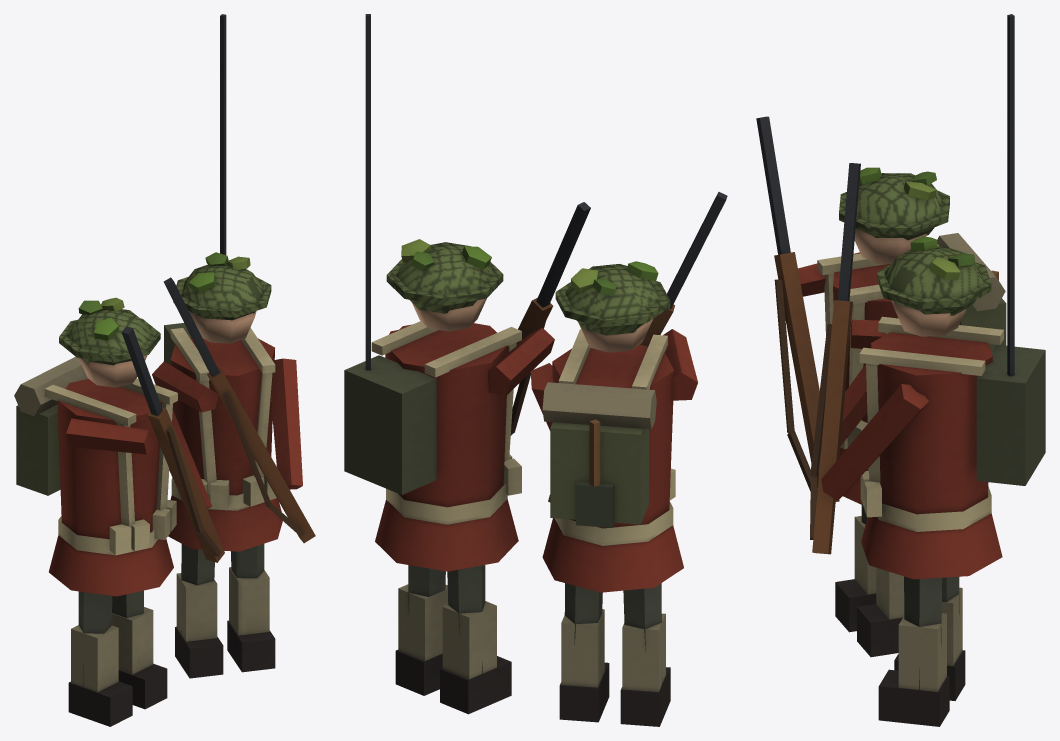
The model's file is sentry_dl6_red.glb.
3 renders of one model, left to right at view 1: azimuth 30°, elevation 25°; view 2: azimuth 150°, elevation 25°; view 3: azimuth 270°, elevation 25°, orthographic. The views are drawn at different scales.
Visible parts, largest first — view 1: sentry_dl6_red; view 2: sentry_dl6_red; view 3: sentry_dl6_red.
Boxes of the visible parts, left/top/right/bottom form: sentry_dl6_red: left=14, top=14, right=315, bottom=726; sentry_dl6_red: left=344, top=14, right=727, bottom=726; sentry_dl6_red: left=756, top=14, right=1045, bottom=726.
Size of the model in its own units: 0.2575 by 0.589 by 0.2183.
1 material, 1 textured.
